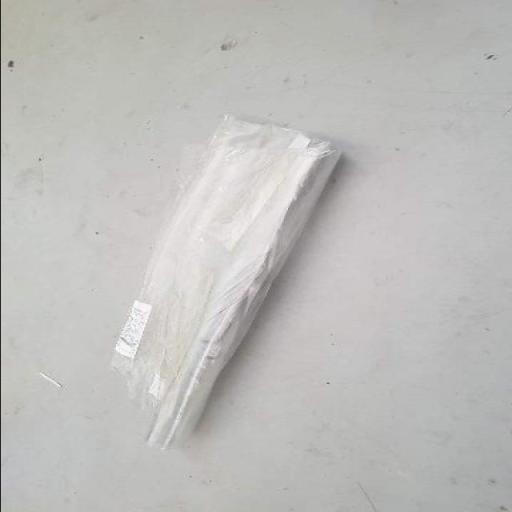polythene: (115, 117, 338, 447)
